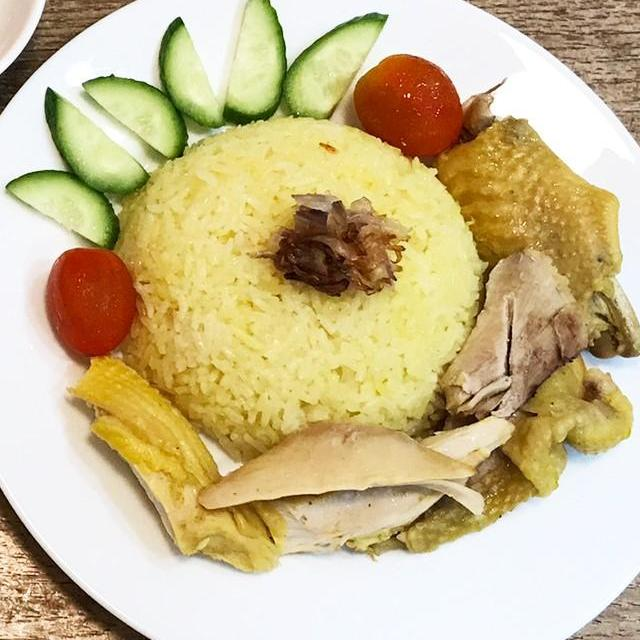com: (100, 108, 492, 450)
com ga: (0, 25, 640, 640)
thit ga: (427, 109, 640, 365), (58, 349, 296, 575), (392, 349, 638, 558), (232, 405, 518, 561), (434, 245, 614, 430), (190, 414, 490, 520)
